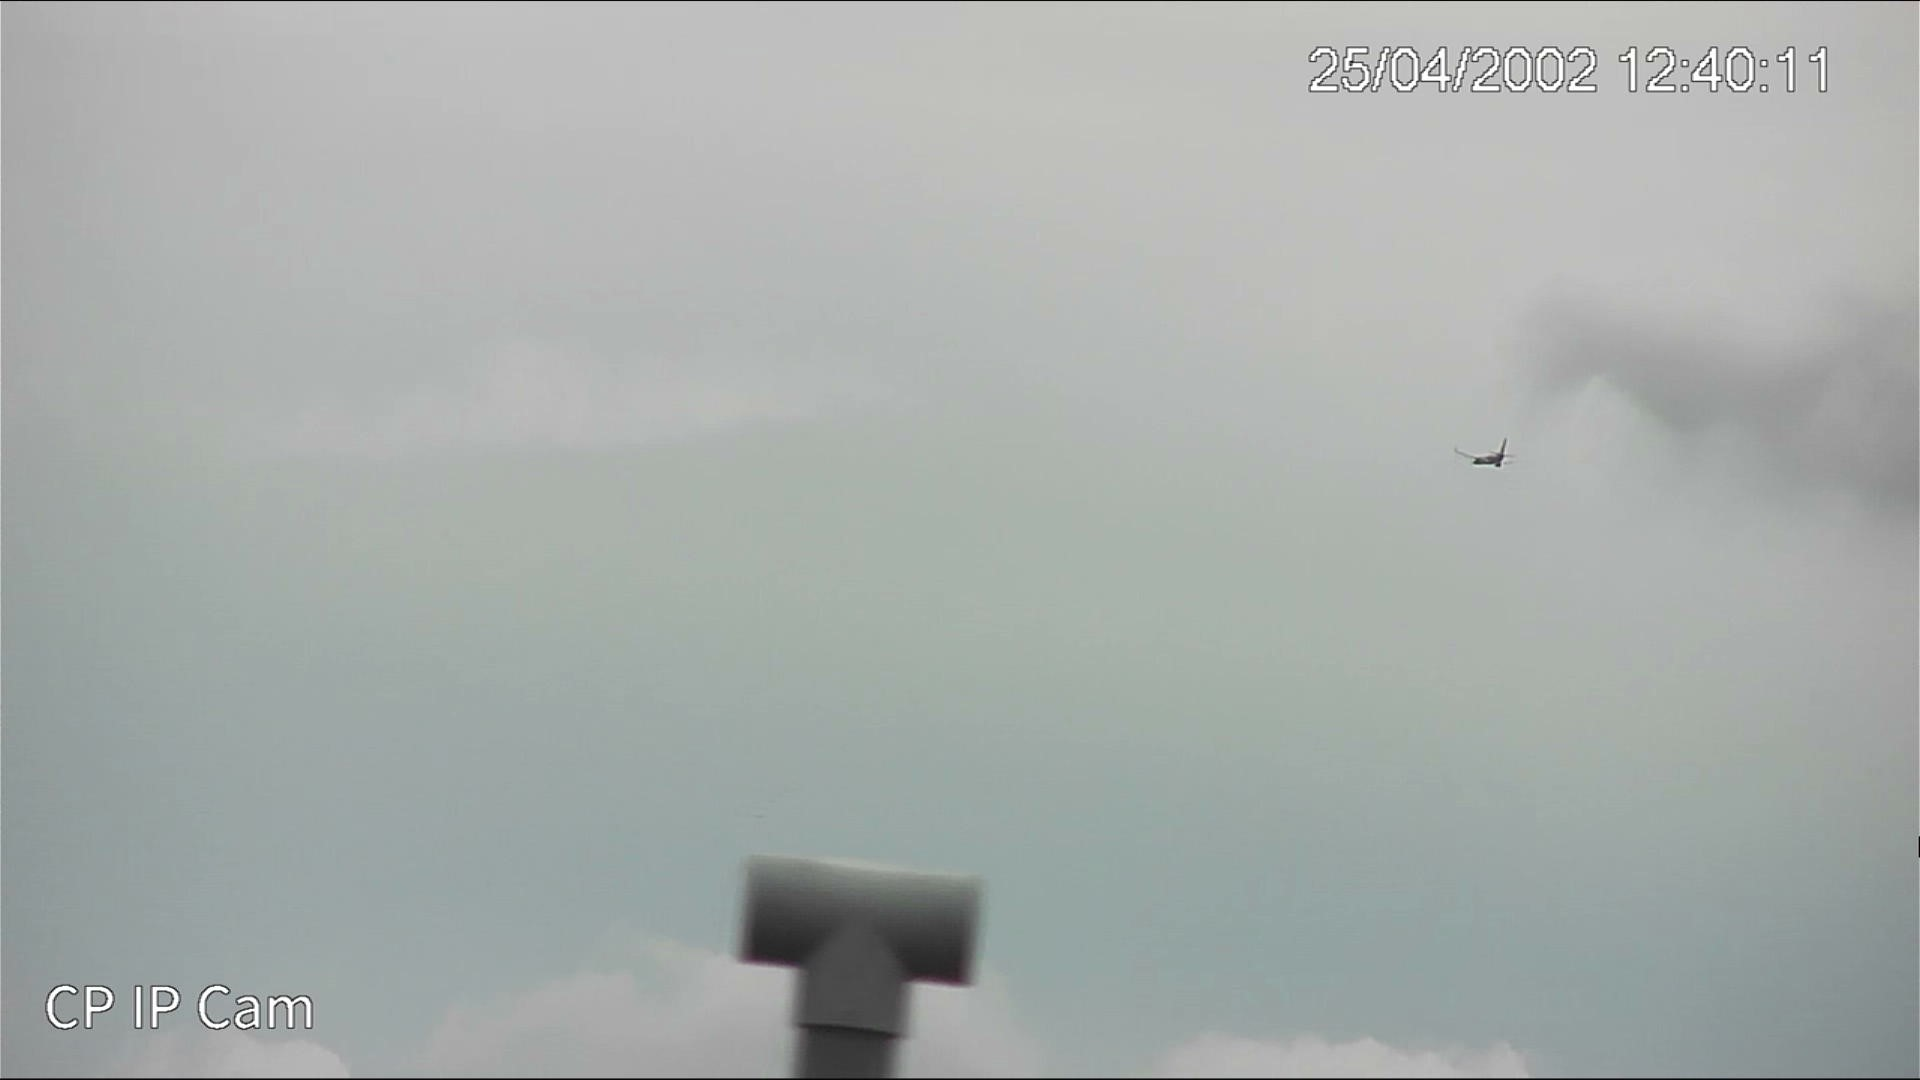SU_30: (1451, 440, 1518, 469)
